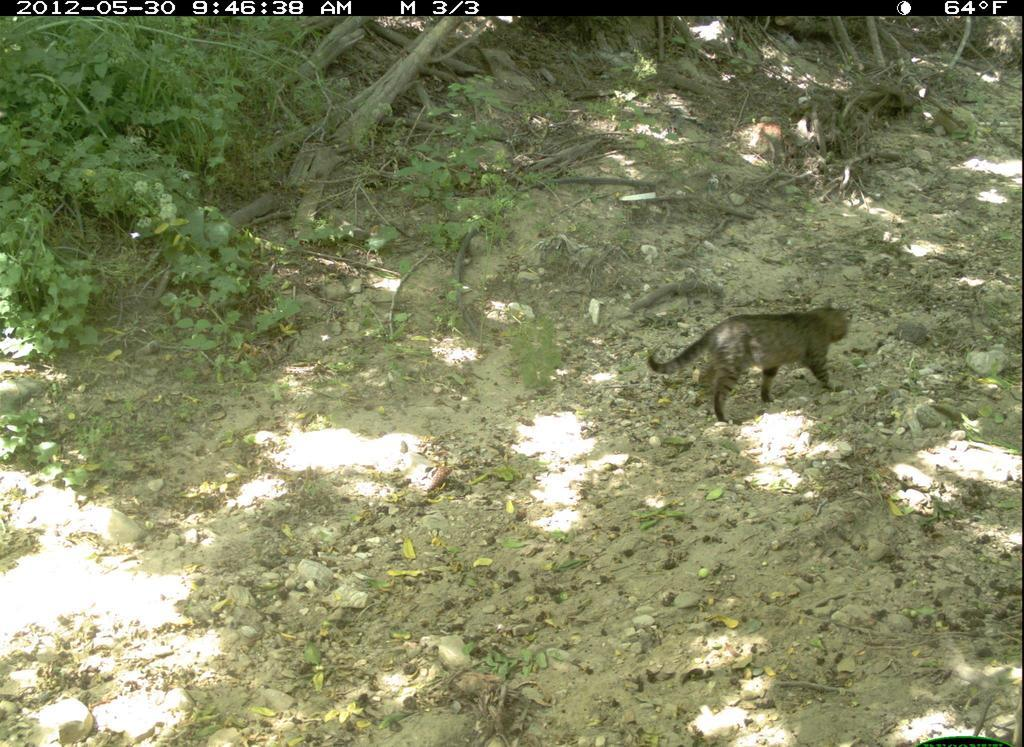cat: (637, 290, 863, 431)
